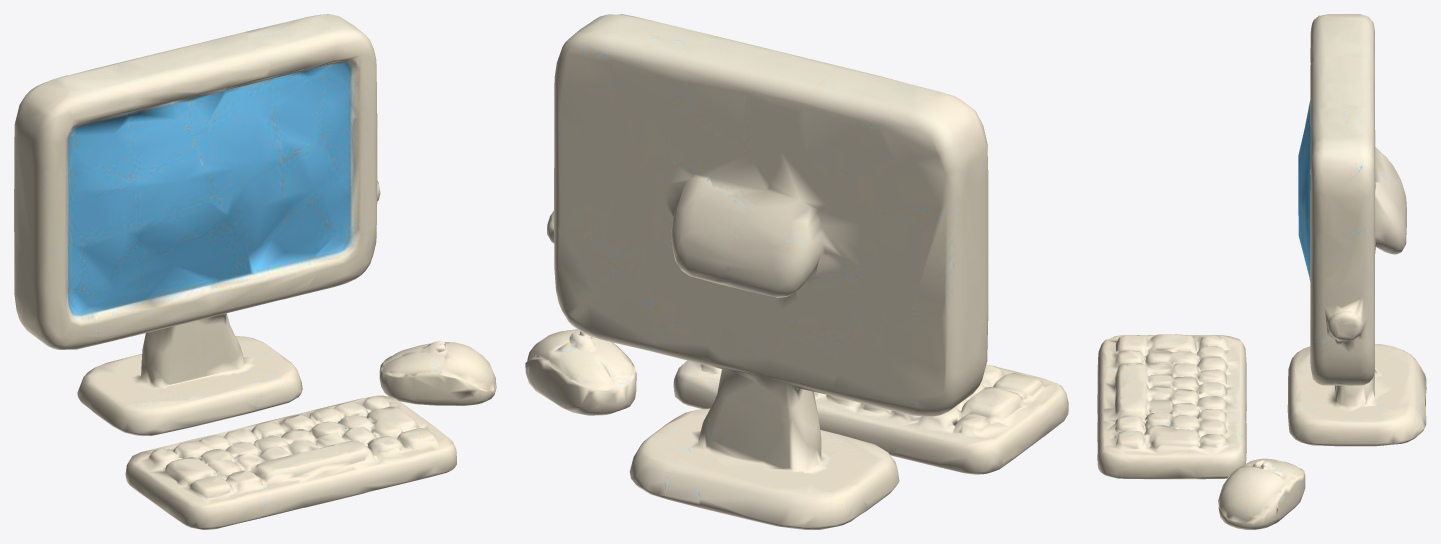
Rendered from computer.glb.
3 renders of one model, left to right at view 1: azimuth 30°, elevation 25°; view 2: azimuth 150°, elevation 25°; view 3: azimuth 270°, elevation 25°, orthographic. The views are drawn at different scales.
Size of the model in its own units: 1.9 by 1.56 by 1.36.
1 material, 1 textured.
